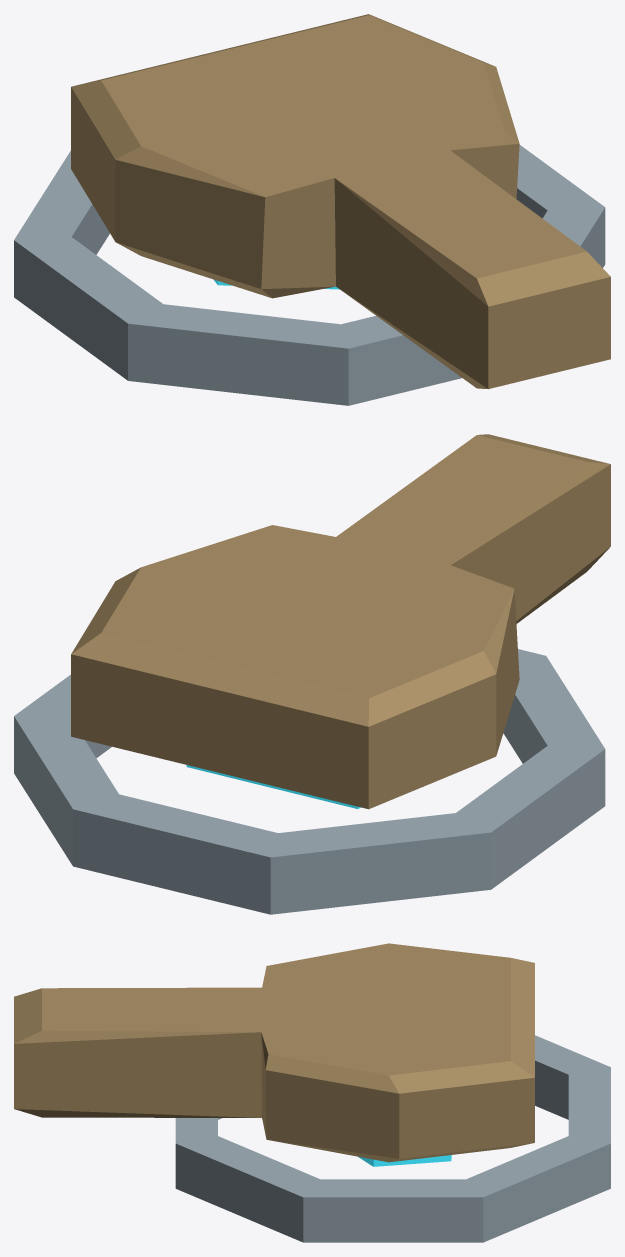
Rendered from accessory-medium.glb.
The picture shows the model from 3 angles, top to bottom: view 1: azimuth 30°, elevation 25°; view 2: azimuth 150°, elevation 25°; view 3: azimuth 270°, elevation 25°; orthographic projection. The views are drawn at different scales.
Parts seen in each view (by area): view 1: CW_Relic_accessory; view 2: CW_Relic_accessory; view 3: CW_Relic_accessory.
Boxes of the visible parts, x1=… form: CW_Relic_accessory: x1=14, y1=14, x2=610, y2=405; CW_Relic_accessory: x1=14, y1=434, x2=610, y2=914; CW_Relic_accessory: x1=14, y1=943, x2=610, y2=1242.
Size of the model in its own units: 0.218 by 0.078 by 0.299.
